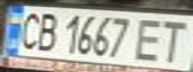1: (57, 11, 81, 54)
6: (90, 12, 115, 57), (75, 11, 96, 56)
7: (106, 14, 136, 58)
B: (30, 9, 60, 53)
C: (12, 9, 45, 51)
E: (133, 15, 172, 63)
T: (154, 17, 193, 64)
